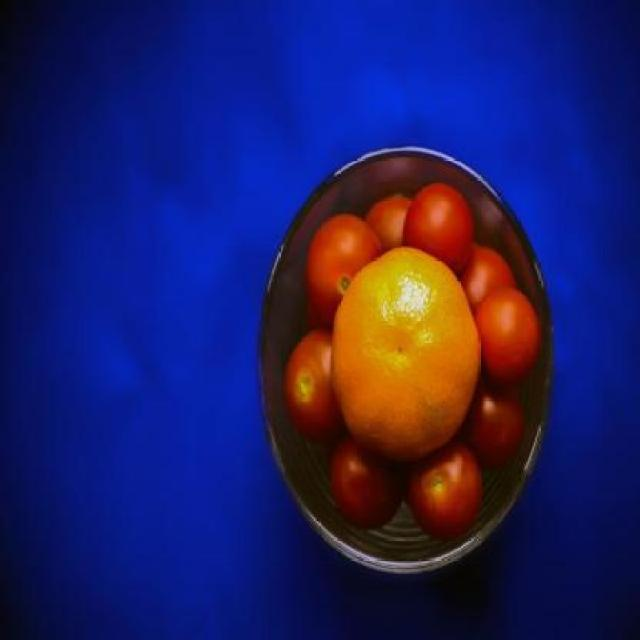Apple: (303, 216, 381, 329), (407, 444, 486, 540), (476, 286, 544, 389), (330, 440, 404, 529), (401, 182, 473, 271), (284, 332, 343, 439), (471, 388, 525, 473), (459, 242, 519, 312), (367, 194, 412, 243)
Orange: (331, 246, 482, 464)
